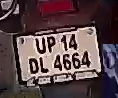1: (60, 34, 69, 53)
4: (69, 34, 79, 52), (53, 55, 63, 73), (81, 51, 90, 70)
6: (71, 51, 82, 71), (64, 54, 72, 71)
D: (29, 57, 40, 75)
L: (38, 56, 50, 74)
P: (45, 35, 58, 55)
U: (35, 38, 48, 54)
